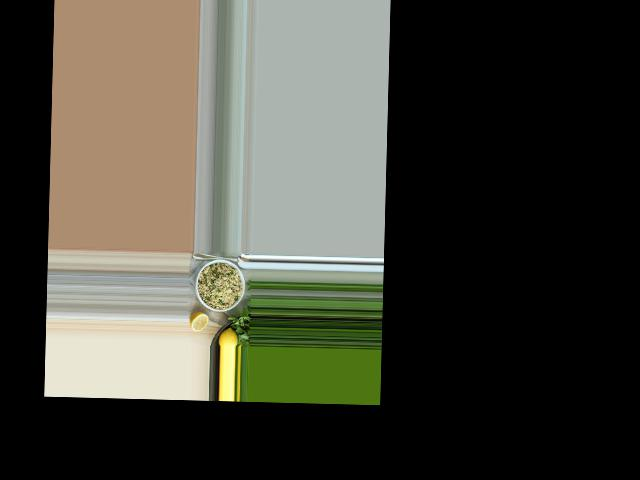lemon: (220, 328, 237, 346)
